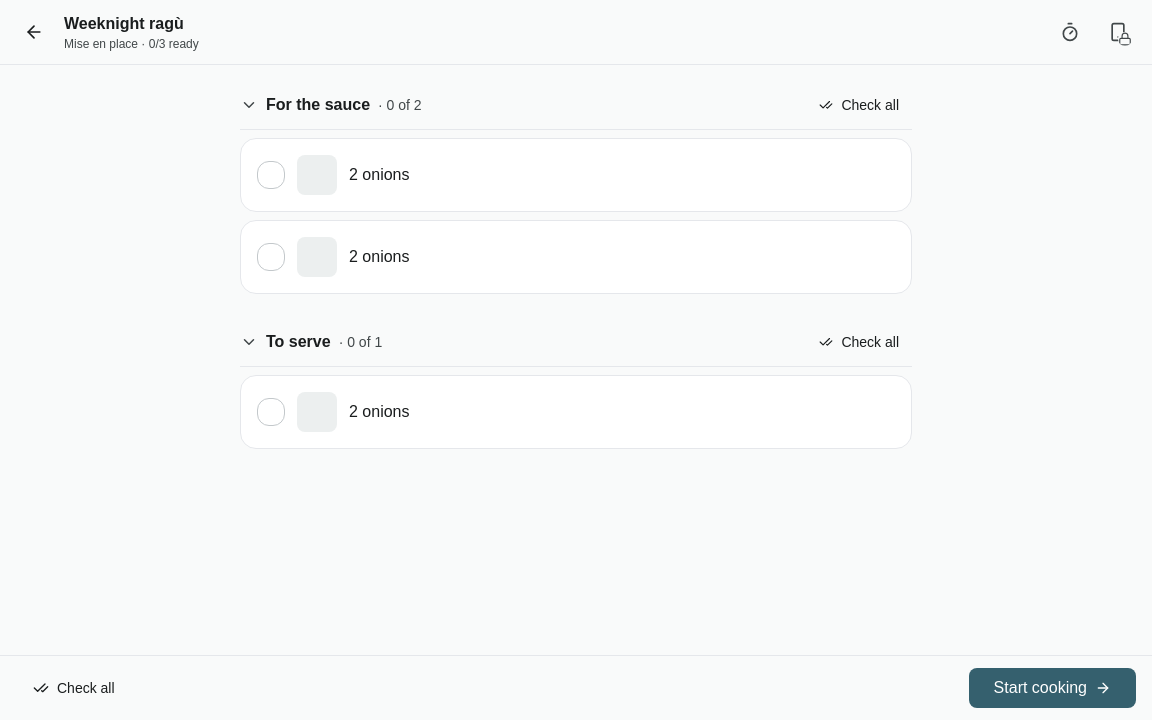
Test case: CookModePage — mise sections › folds a section away, and brings it back
Expected: the number of buttons with test id "cook-mise-row" is 3, x1=240 y1=138 x2=912 y2=212; x1=240 y1=220 x2=912 y2=294; x1=240 y1=375 x2=912 y2=449
Click the button with test id "cook-mise-group-toggle" showing "For the sauce · 0 of 2" at x=318, y=104, box x1=240 y1=93 x2=798 y2=117
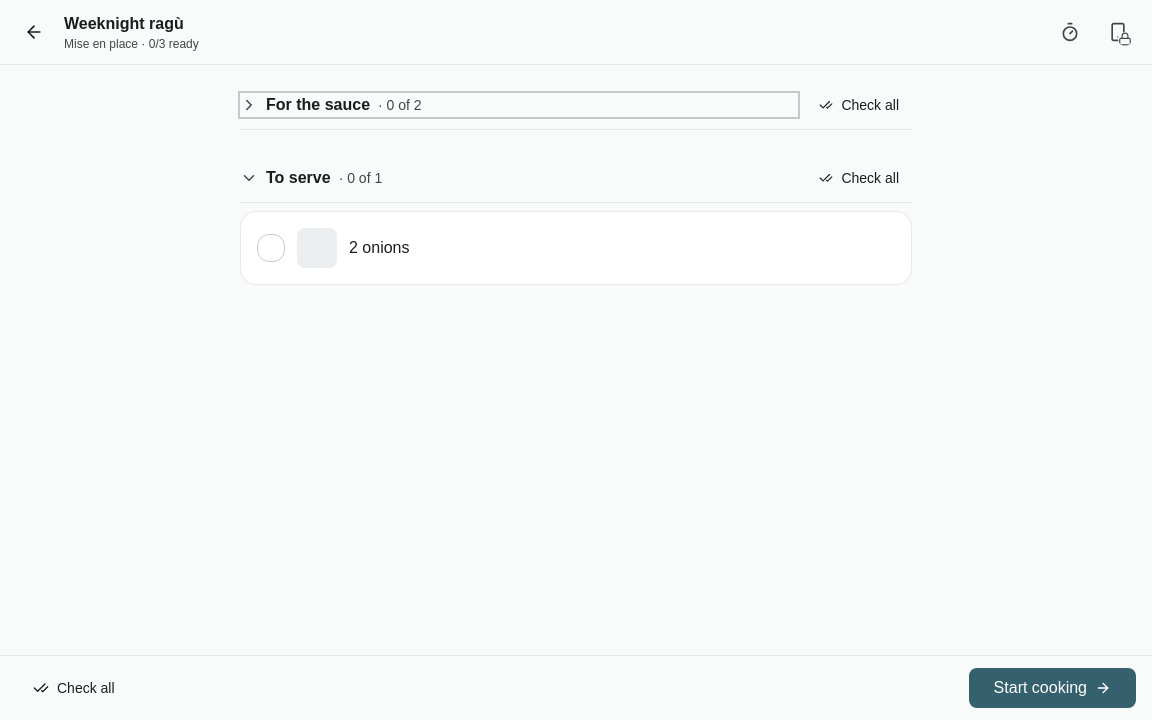
Now the number of buttons with test id "cook-mise-row" is 1, box x1=240 y1=211 x2=912 y2=285
Now the button with test id "cook-mise-group-toggle" is collapsed
Click the button with test id "cook-mise-group-toggle" showing "For the sauce · 0 of 2" at x=318, y=104, box x1=240 y1=93 x2=798 y2=117
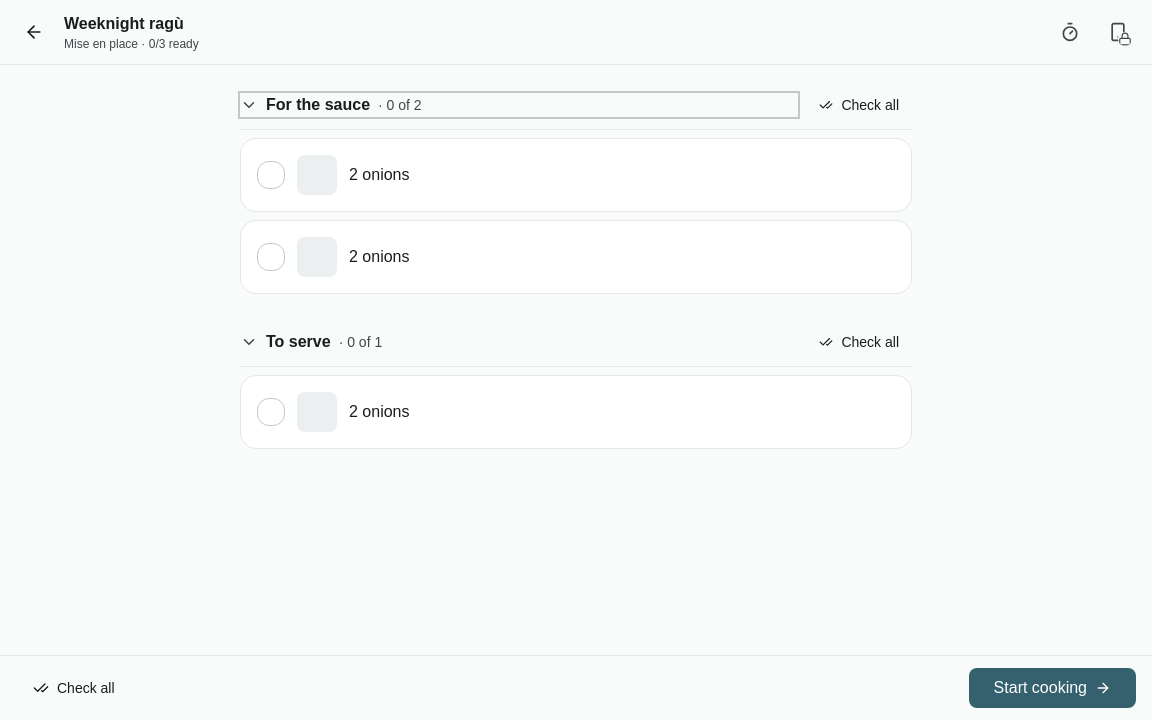
Now the number of buttons with test id "cook-mise-row" is 3, box x1=240 y1=138 x2=912 y2=212; x1=240 y1=220 x2=912 y2=294; x1=240 y1=375 x2=912 y2=449
Now the button with test id "cook-mise-group-toggle" is expanded, box x1=240 y1=93 x2=798 y2=117
